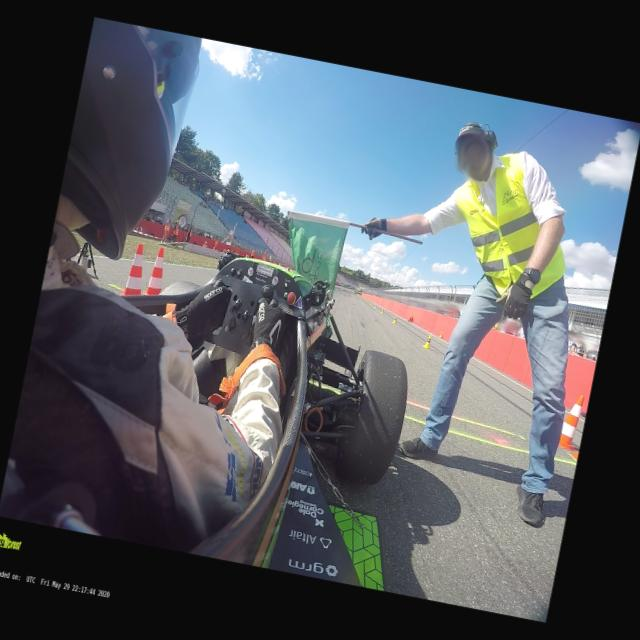large_orange_cone: (118, 243, 154, 300), (558, 394, 589, 452), (141, 246, 170, 295)
yellow_cone: (422, 334, 432, 348), (392, 315, 397, 323), (380, 307, 385, 314), (363, 298, 367, 302), (361, 297, 365, 301), (368, 302, 372, 306), (364, 298, 368, 302), (373, 303, 376, 308), (366, 299, 369, 302), (360, 296, 362, 298)
